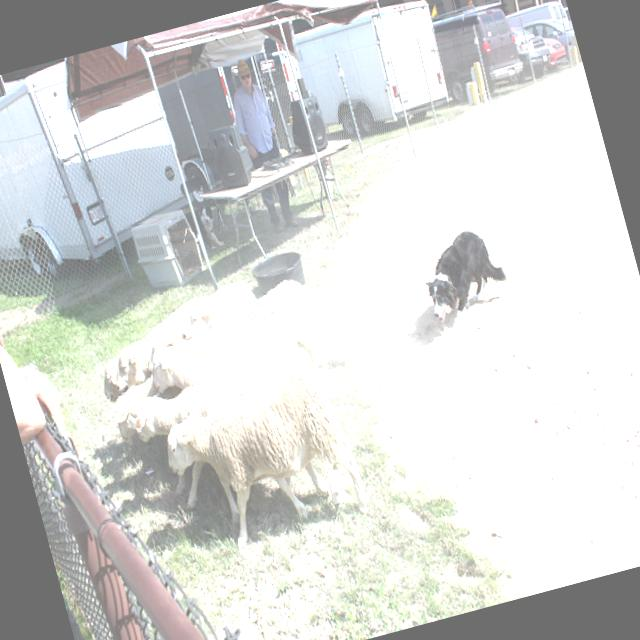Vehicle: (0, 37, 195, 297), (289, 0, 456, 151), (427, 0, 528, 105), (432, 2, 530, 104), (495, 21, 556, 86), (521, 9, 580, 66), (505, 0, 570, 41), (538, 34, 570, 72), (564, 7, 574, 33), (564, 7, 574, 30)
